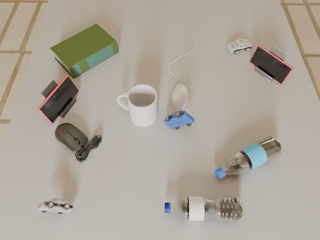book: (50, 24, 118, 78)
bottle: (215, 137, 282, 179), (165, 196, 244, 221)
cup: (117, 84, 157, 126)
mouse: (55, 123, 102, 162), (172, 84, 188, 110)
phone: (37, 75, 79, 124), (250, 45, 293, 84)
toy_car: (164, 109, 194, 129), (36, 198, 73, 214), (227, 39, 252, 54)
